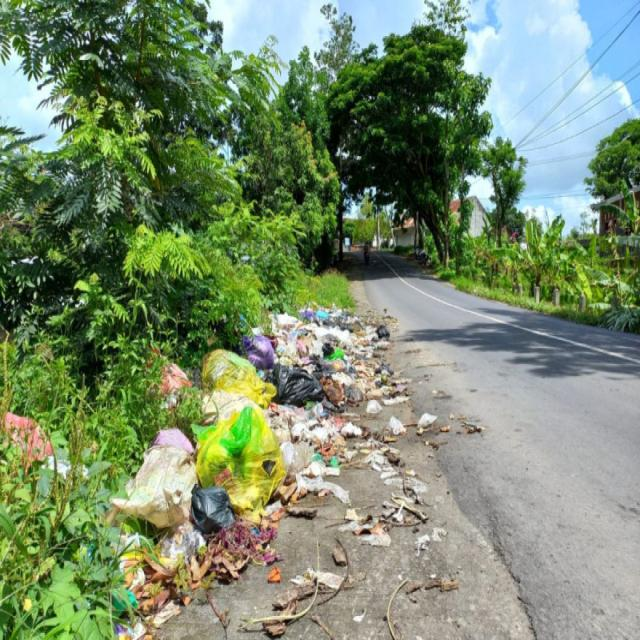trash: (54, 276, 483, 599)
